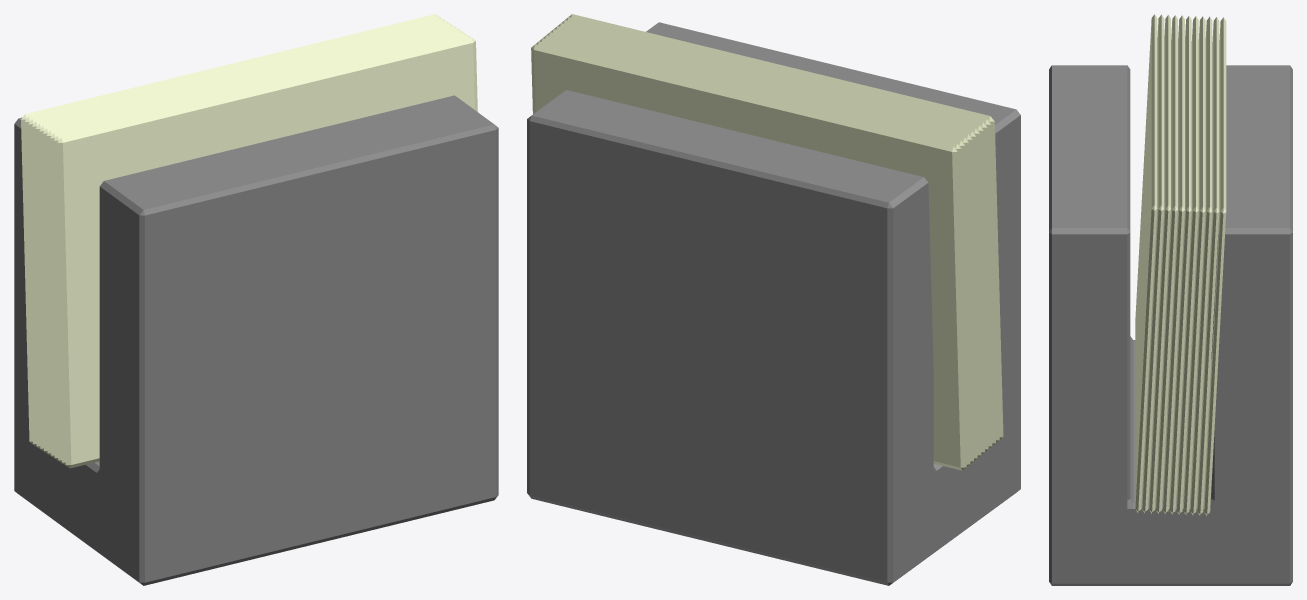
The model's file is pandemonium_napkinholder.fbx.
3 views of the same model, side by side, from view 1: azimuth 30°, elevation 25°; view 2: azimuth 150°, elevation 25°; view 3: azimuth 270°, elevation 25° (orthographic). The views are drawn at different scales.
Parts seen in each view (by area): view 1: Cube.428; view 2: Cube.428; view 3: Cube.428.
Part boxes in pixels (x1,y1,x2,y2): Cube.428: (14,14,498,585); Cube.428: (527,14,1020,585); Cube.428: (1049,14,1292,585).
Size of the model in its own units: 60.56 by 57.48 by 32.09.
